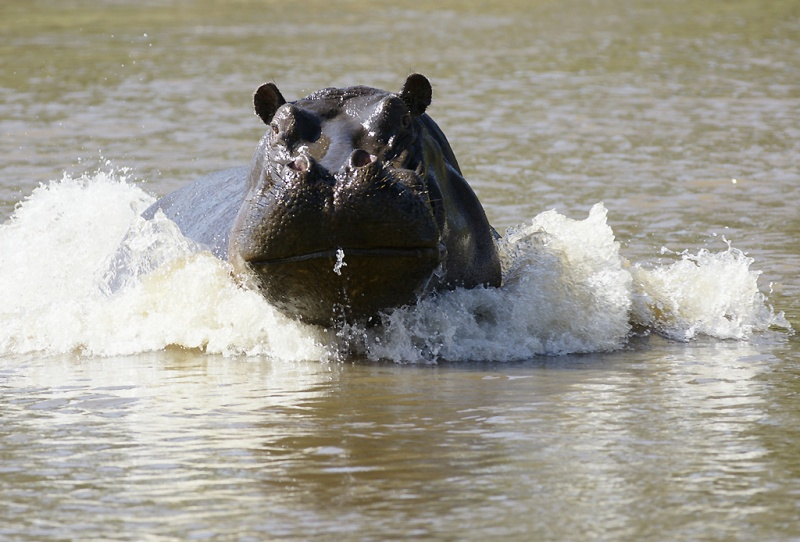hipopotamo: (104, 75, 511, 333)
